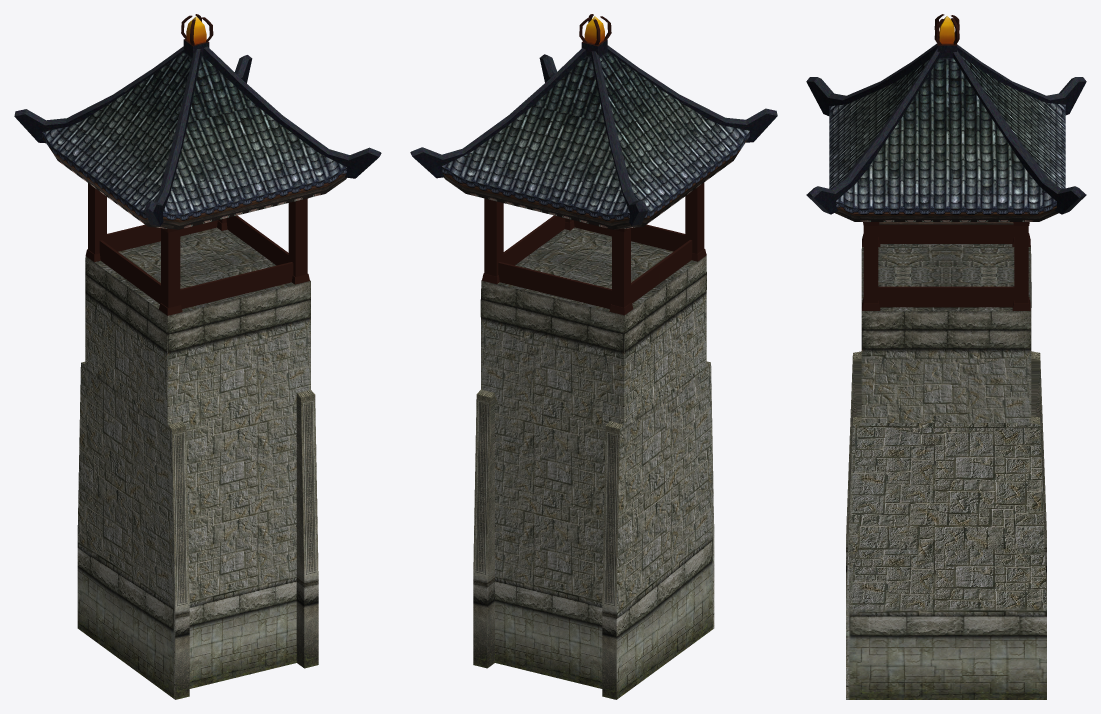
File: b1-bigdam-06.fbx
The picture shows the model from 3 angles, left to right: view 1: azimuth 30°, elevation 25°; view 2: azimuth 150°, elevation 25°; view 3: azimuth 270°, elevation 25°; orthographic projection. The views are drawn at different scales.
Visible parts, largest first — view 1: b1-bigdam-06; view 2: b1-bigdam-06; view 3: b1-bigdam-06.
Boxes of the visible parts, x1,y1,x2,y2 form: b1-bigdam-06: (14, 14, 381, 699); b1-bigdam-06: (410, 14, 777, 699); b1-bigdam-06: (806, 14, 1086, 699).
Bounding box in the file's own units: 16.62 × 42.11 × 16.53.
